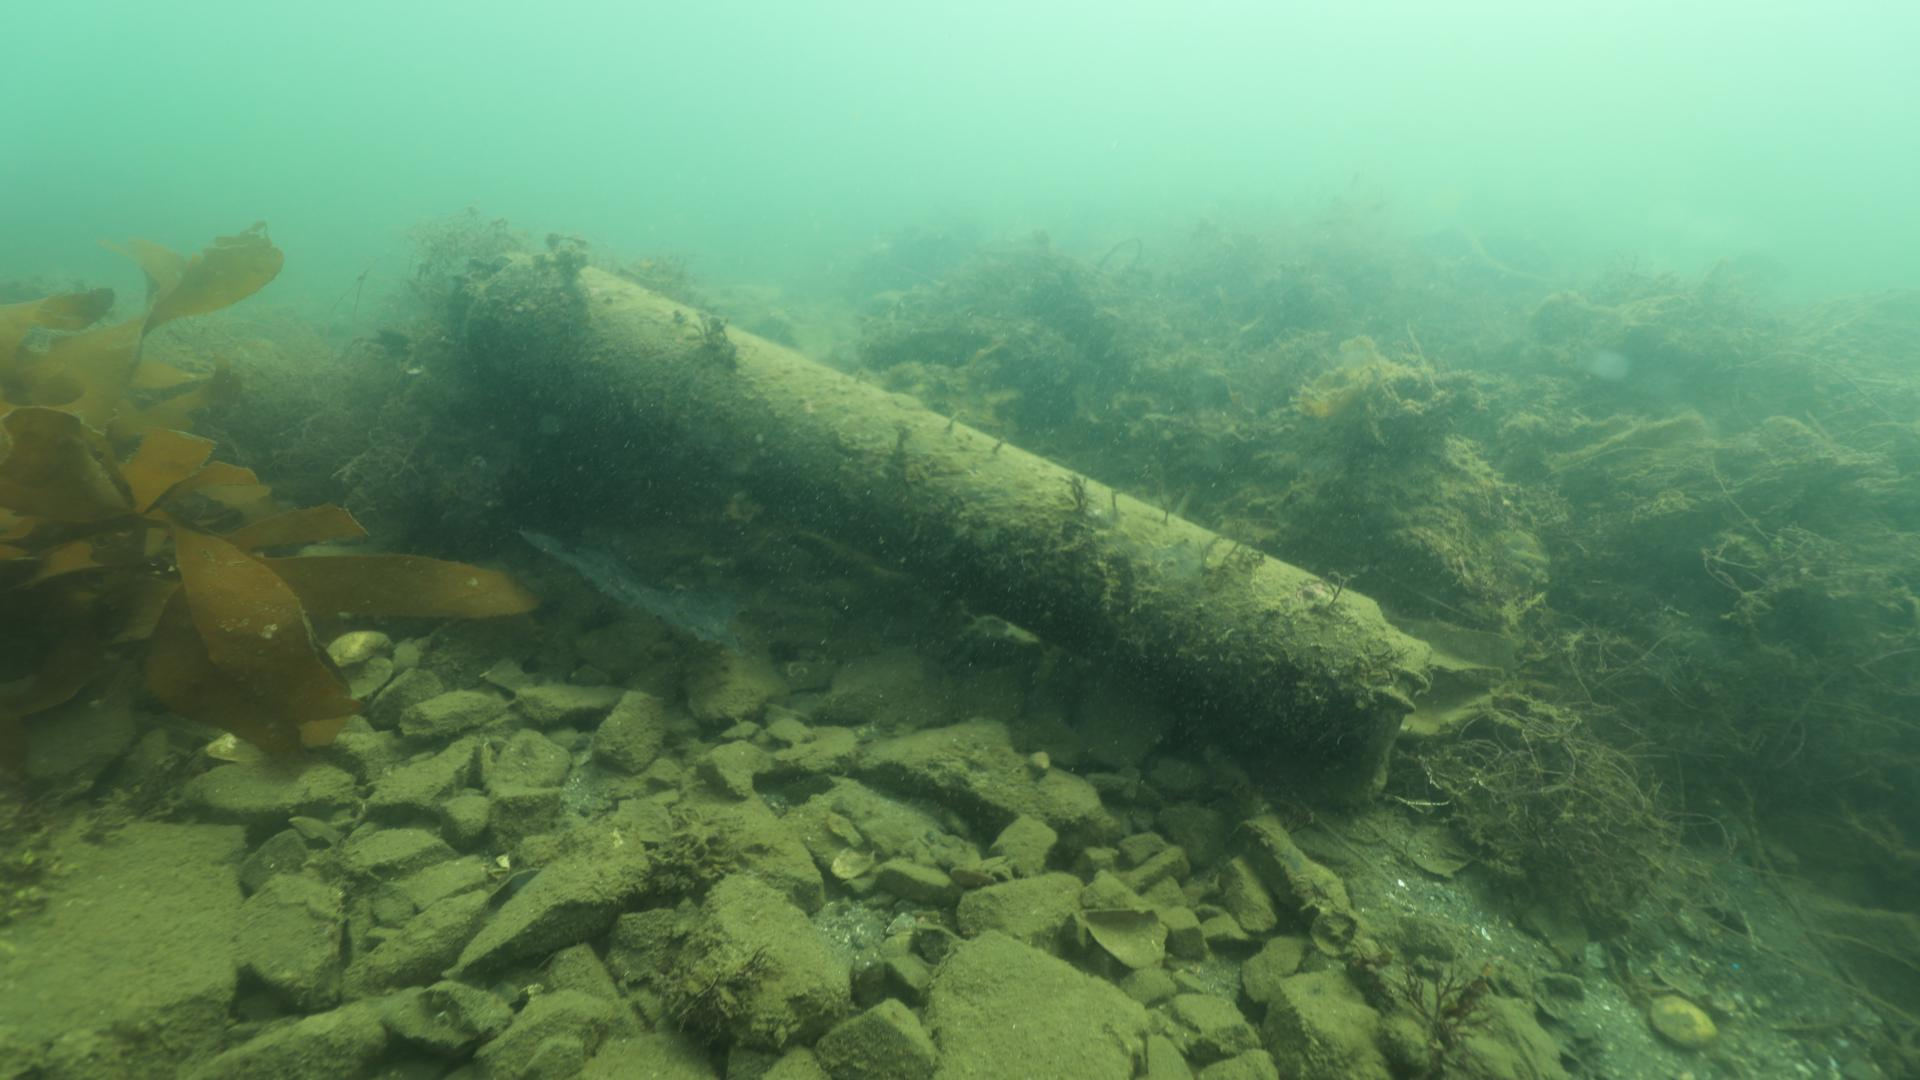eel fish trap: (458, 247, 1427, 808)
